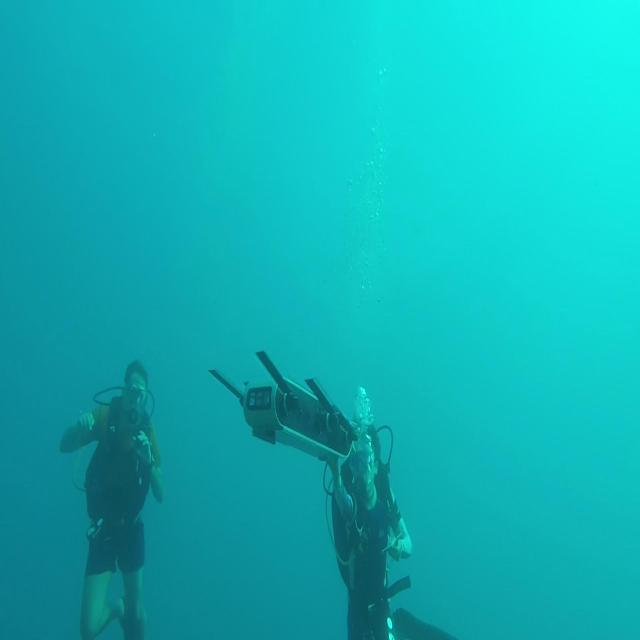human: (58, 358, 164, 638), (325, 430, 413, 638)
